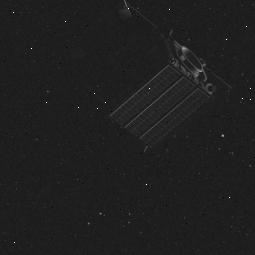proba_2: (102, 0, 224, 152)
